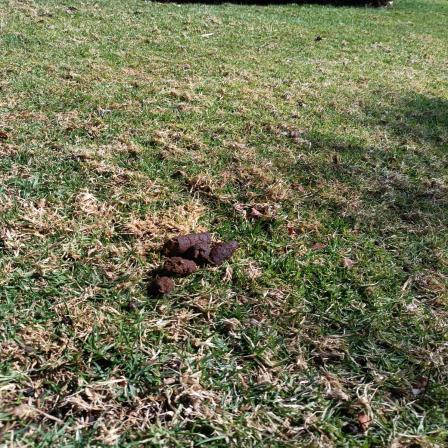dog-poop: (146, 222, 244, 302)
